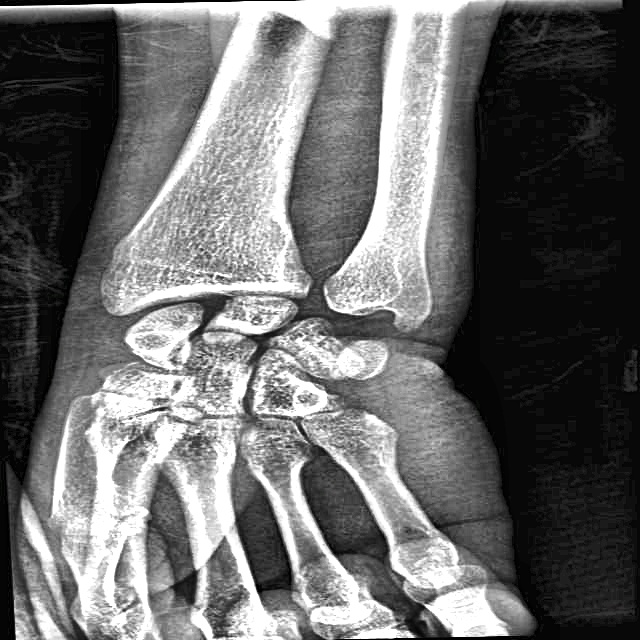Linear: (88, 503, 165, 617)
